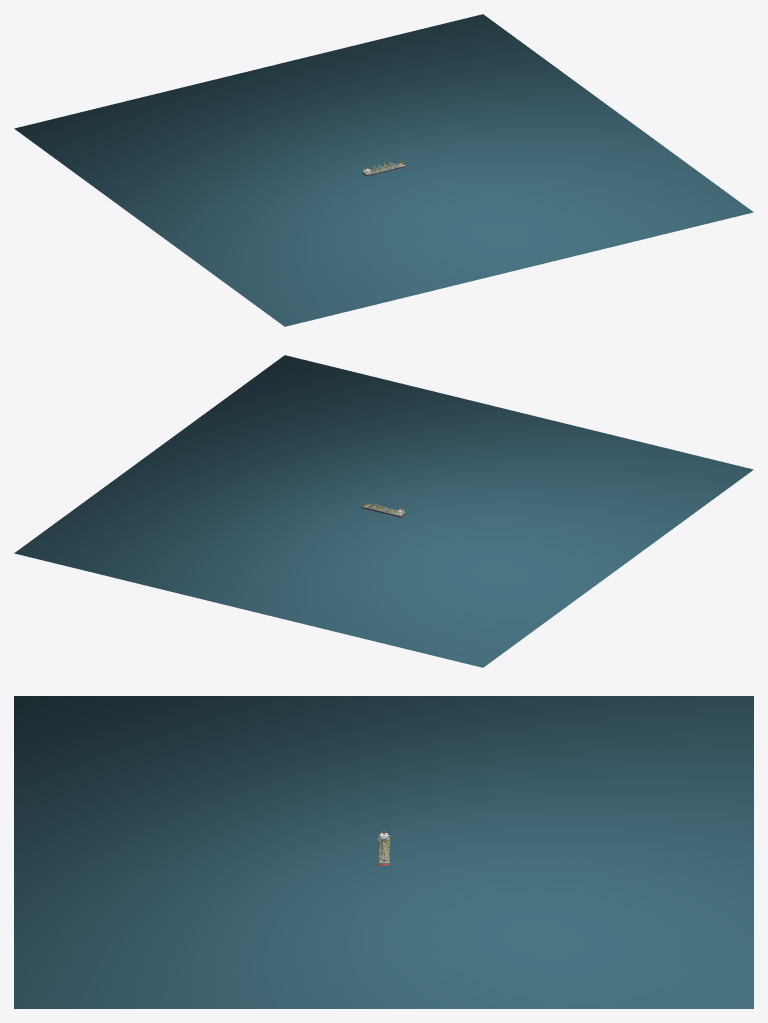
Rendered from gemi.glb.
3 views of the same model, one above another, from view 1: azimuth 30°, elevation 25°; view 2: azimuth 150°, elevation 25°; view 3: azimuth 270°, elevation 25° (orthographic). The views are drawn at different scales.
Visible parts, largest first — view 1: ground_far_chunk_0_0; view 2: ground_far_chunk_0_0; view 3: ground_far_chunk_0_0.
Boxes of the visible parts, bbox=[...] form: ground_far_chunk_0_0: bbox=[14, 14, 753, 326]; ground_far_chunk_0_0: bbox=[14, 355, 753, 667]; ground_far_chunk_0_0: bbox=[14, 696, 753, 1008].
Bounding box in the file's own units: 2000 × 32 × 2000.
